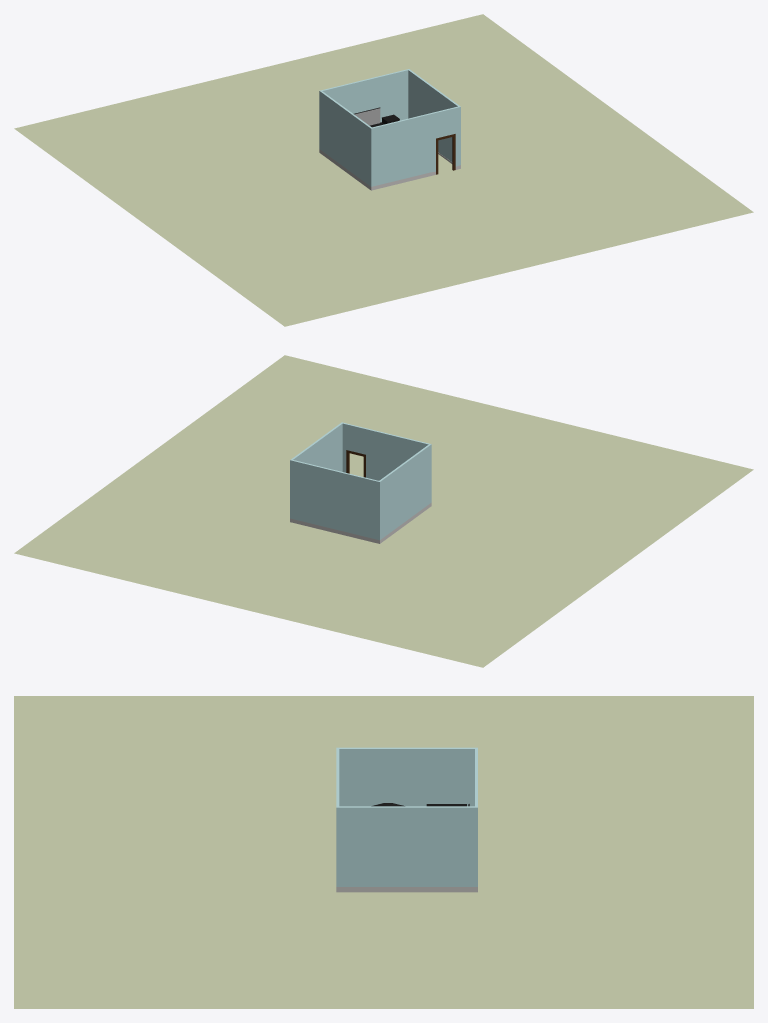
Rendered from Bedroom_Scene_Household_Props_Challenge_Day_26.glb.
3 views of the same model, one above another, from view 1: azimuth 30°, elevation 25°; view 2: azimuth 150°, elevation 25°; view 3: azimuth 270°, elevation 25° (orthographic). The views are drawn at different scales.
Parts seen in each view (by area): view 1: DemoFloor_0; view 2: DemoFloor_0; view 3: DemoFloor_0.
Part boxes in pixels (x1,y1,x2,y2): DemoFloor_0: (14, 14, 753, 326); DemoFloor_0: (14, 355, 753, 667); DemoFloor_0: (14, 696, 753, 1008).
Bounding box in the file's own units: 96.2 × 12.22 × 96.2.
Materials: 3 (3 with a texture image).
